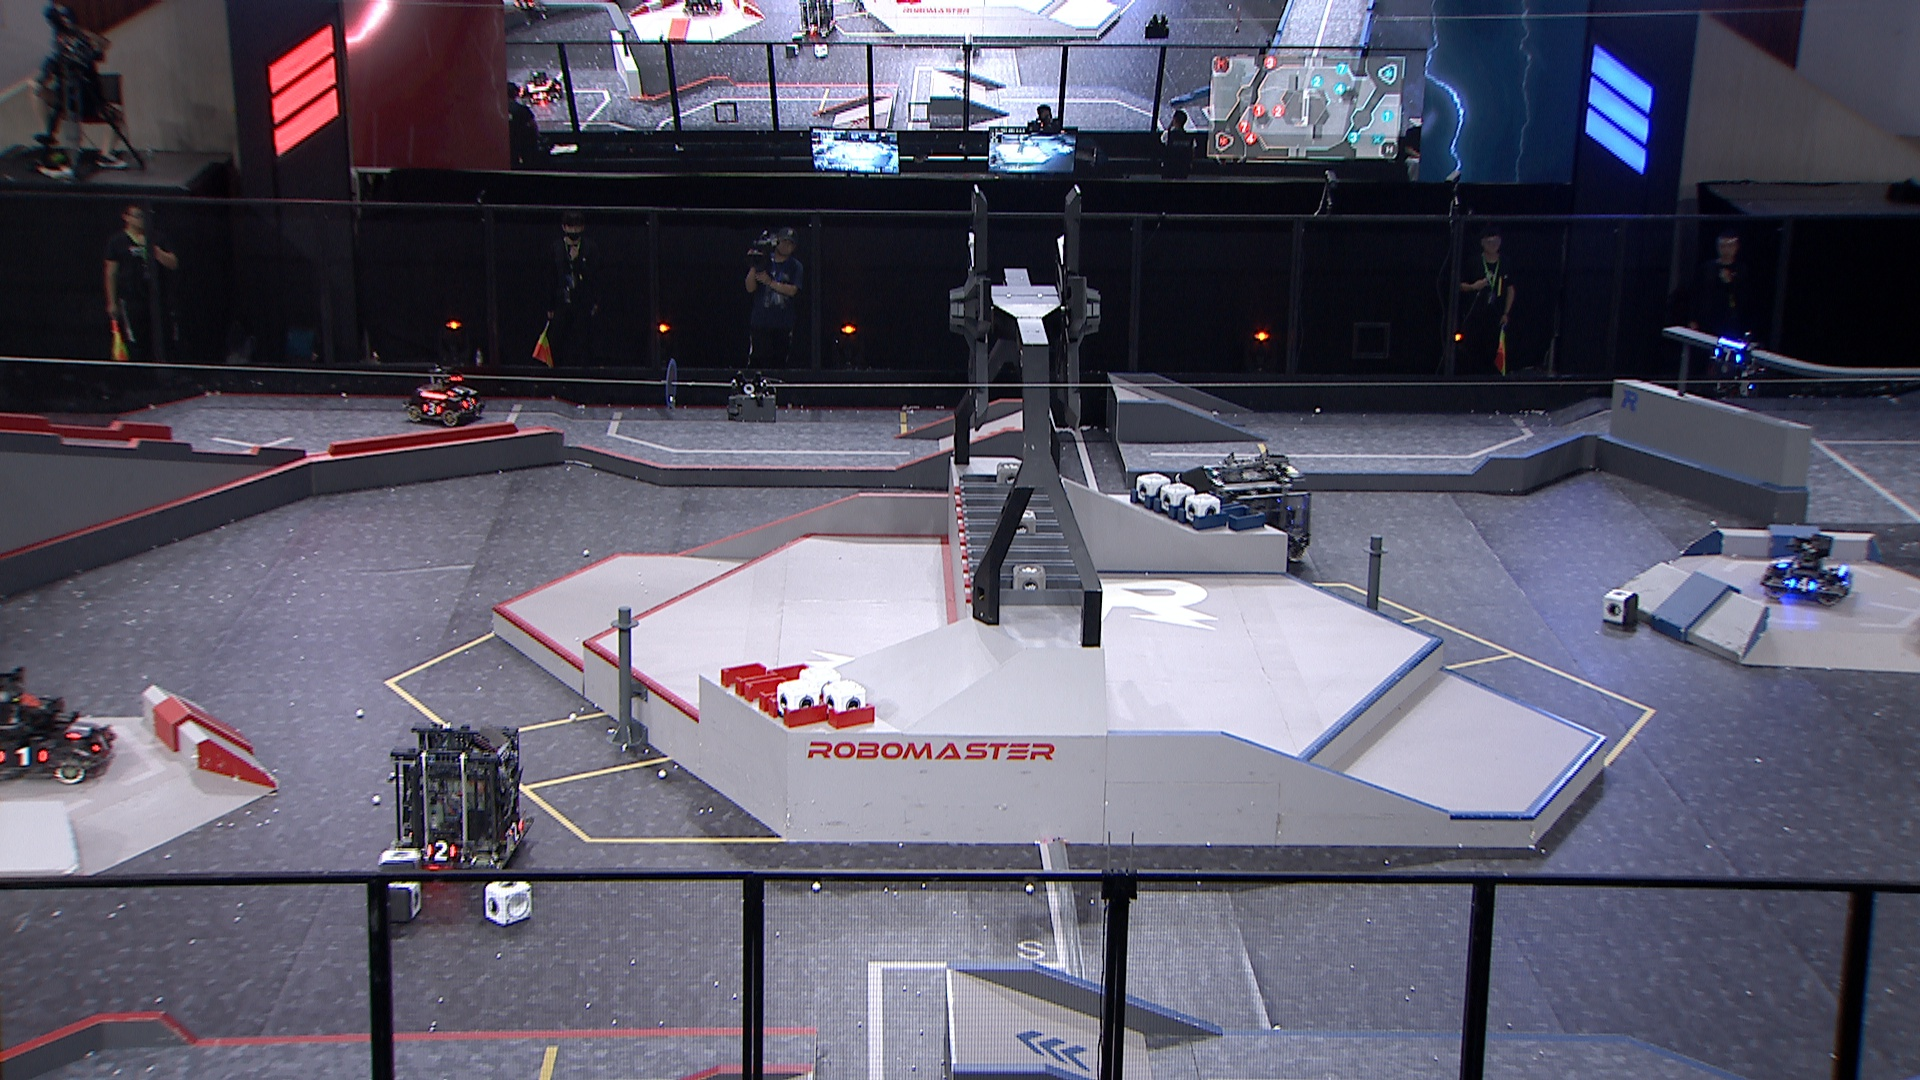armor: (423, 839, 458, 860), (91, 731, 112, 757), (504, 818, 527, 840), (1787, 575, 1817, 591), (69, 716, 90, 738), (1712, 347, 1741, 361), (448, 382, 471, 396), (423, 400, 439, 415), (1776, 556, 1793, 570), (460, 398, 479, 410)
car: (386, 717, 538, 880), (1191, 452, 1315, 574), (1762, 531, 1855, 607), (401, 363, 485, 427)
ignore: (514, 69, 574, 113), (799, 1, 839, 40)
watcher: (1709, 330, 1762, 396)
